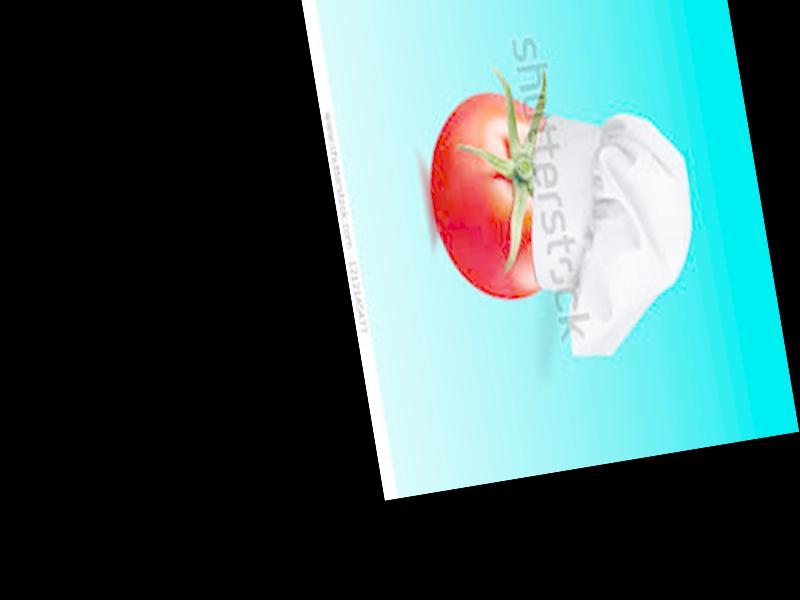Tomato: (418, 87, 575, 310)
